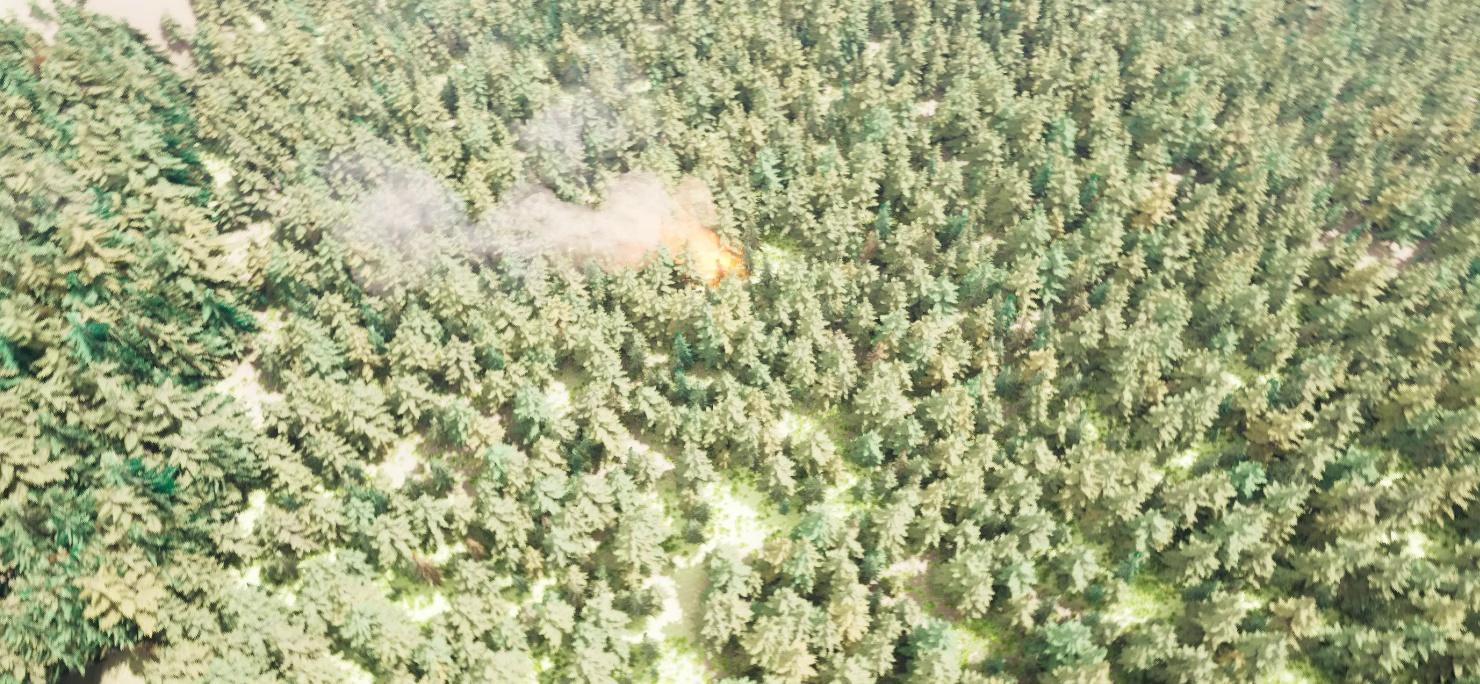fire: (695, 237, 744, 283)
smoke: (336, 73, 711, 288)
